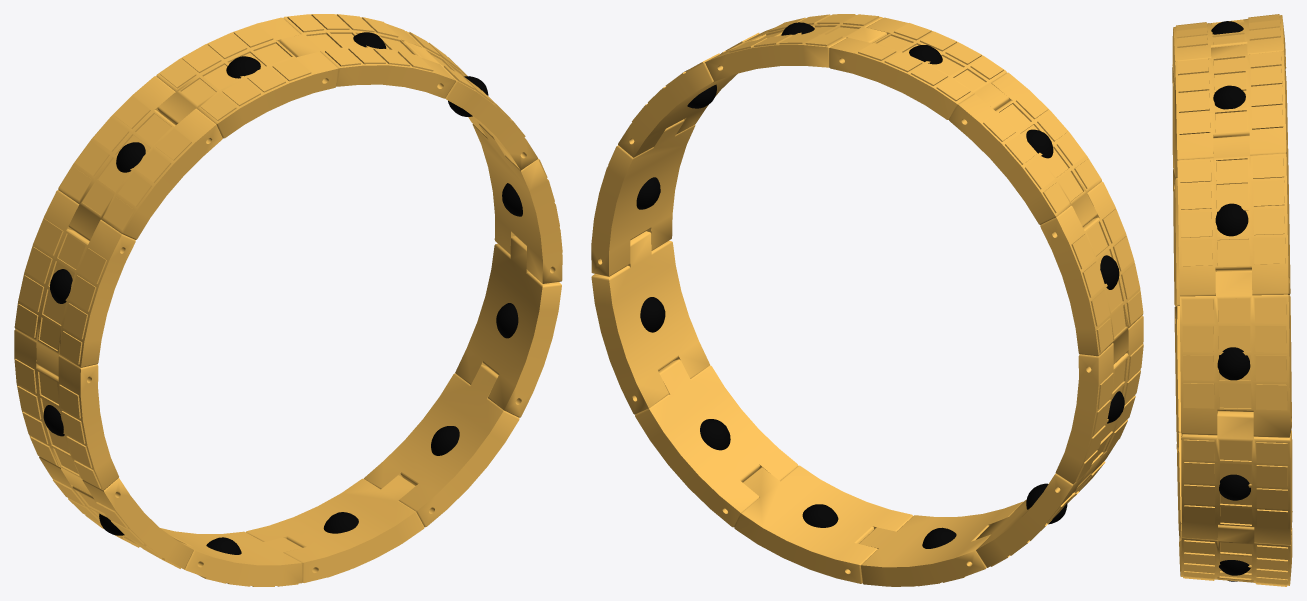
The model's file is gold_bracelet.glb.
3 views of the same model, side by side, from view 1: azimuth 30°, elevation 25°; view 2: azimuth 150°, elevation 25°; view 3: azimuth 270°, elevation 25° (orthographic). The views are drawn at different scales.
Visible parts, largest first — view 1: Object_4, Object_6; view 2: Object_4, Object_6; view 3: Object_4, Object_6.
Boxes of the visible parts, <box> form: Object_4: <box>14,14,562,586</box>; Object_6: <box>43,32,522,554</box>; Object_4: <box>591,14,1143,586</box>; Object_6: <box>636,22,1124,548</box>; Object_4: <box>1172,14,1292,586</box>; Object_6: <box>1211,21,1250,581</box>.
Bounding box in the file's own units: 3.5 × 3.5 × 0.7333.
